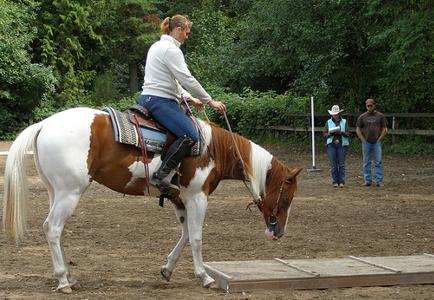person: (142, 15, 229, 195)
